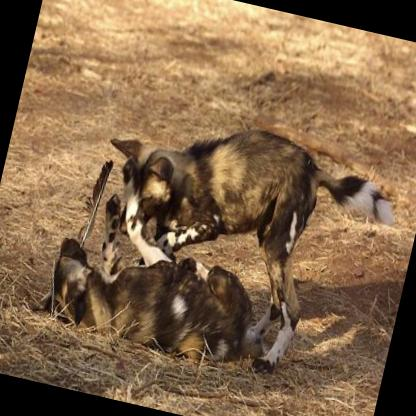African_hunting_dog: (67, 95, 404, 392), (32, 181, 276, 370)
